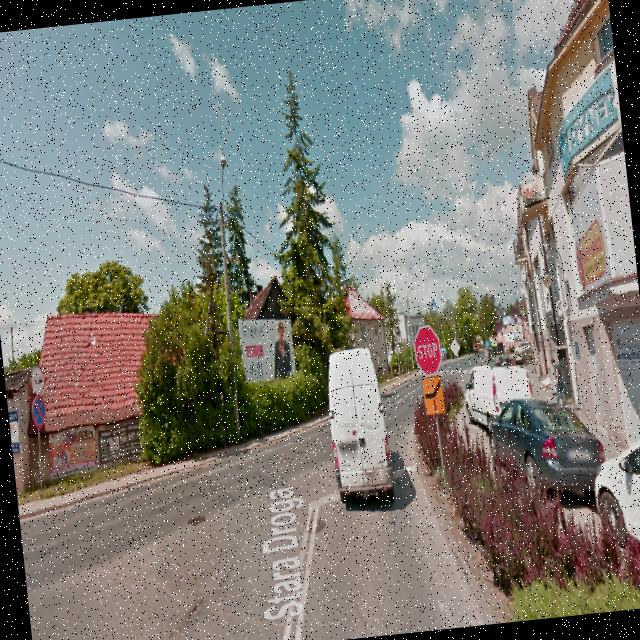Droga z pierwszenstwem: (448, 335, 462, 358)
Przejscie dla pieszych: (430, 300, 439, 312)
Stop: (412, 324, 444, 376)
Zakaz wyprzedzania: (28, 364, 46, 394)
Zakaz zatrzymywania sie: (29, 394, 47, 429)
